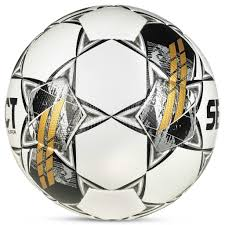football ball: (1, 2, 220, 225)
